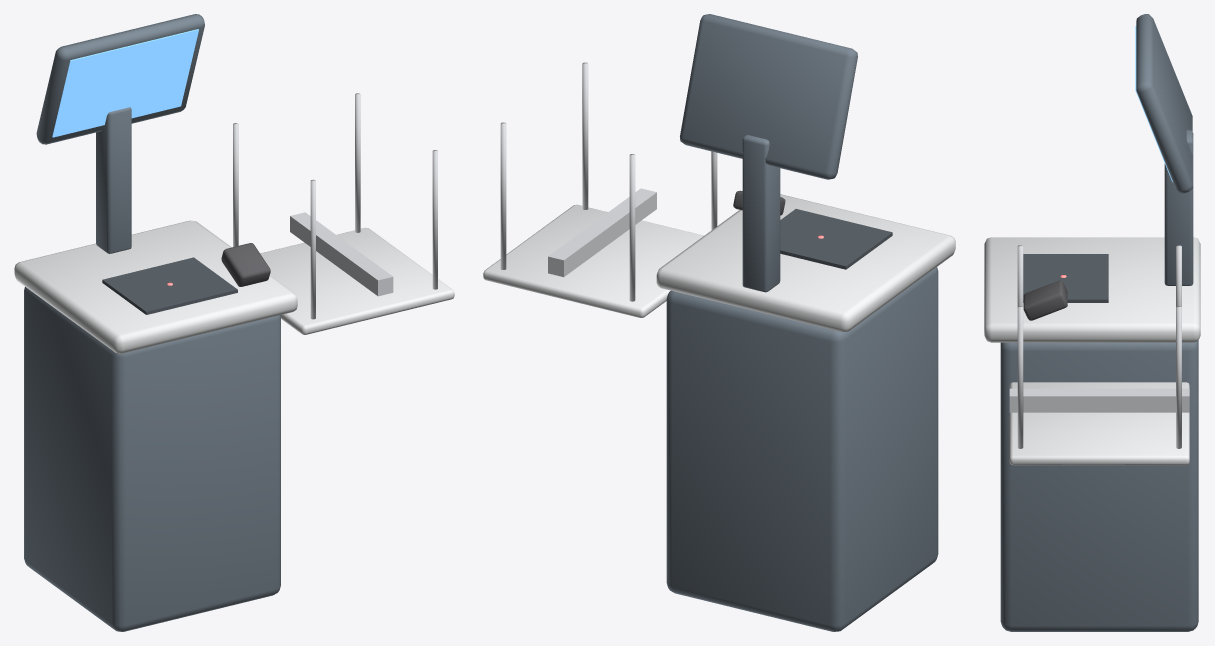
File: kiosk.glb
3 renders of one model, left to right at view 1: azimuth 30°, elevation 25°; view 2: azimuth 150°, elevation 25°; view 3: azimuth 270°, elevation 25°, orthographic. The views are drawn at different scales.
Visible parts, largest first — view 1: Cube, Cube.001, Cube.008, Cube.005, Cube.003, Cube.004, Cube.002, Cube.007, Cube.006, Cylinder.001, Cylinder.003, Cylinder.004 (+1 smaller); view 2: Cube, Cube.004, Cube.001, Cube.008, Cube.003, Cube.002, Cube.007, Cylinder.002, Cylinder.003, Cylinder.004; view 3: Cube, Cube.001, Cube.008, Cube.004, Cube.007, Cube.002, Cube.003, Cube.006, Cylinder.003, Cylinder.004, Cylinder.001, Cylinder.002.
Part boxes in pixels (box(x1,y1,x2,y2)): Cube: box(24, 287, 280, 631); Cube.001: box(14, 220, 297, 353); Cube.008: box(260, 227, 454, 334); Cube.005: box(52, 29, 198, 137); Cube.003: box(96, 107, 131, 253); Cube.004: box(36, 14, 204, 144); Cube.002: box(102, 257, 237, 314); Cube.007: box(290, 212, 393, 296); Cube.006: box(221, 243, 270, 286); Cylinder.001: box(310, 179, 315, 319); Cylinder.003: box(432, 150, 437, 289); Cylinder.004: box(355, 93, 360, 232); Cube: box(666, 267, 938, 631); Cube.004: box(680, 14, 857, 179); Cube.001: box(656, 194, 955, 332); Cube.008: box(483, 204, 703, 317); Cube.003: box(742, 135, 780, 292); Cube.002: box(780, 209, 892, 269); Cube.007: box(548, 188, 656, 277); Cylinder.002: box(629, 154, 635, 301); Cylinder.003: box(582, 62, 588, 209); Cylinder.004: box(500, 122, 506, 269); Cube: box(1000, 340, 1198, 631); Cube.001: box(984, 237, 1200, 342); Cube.008: box(1009, 382, 1189, 465); Cube.004: box(1136, 14, 1192, 193); Cube.007: box(1009, 388, 1189, 412); Cube.002: box(1023, 254, 1108, 302); Cube.003: box(1164, 130, 1193, 285); Cube.006: box(1023, 280, 1067, 320); Cylinder.003: box(1017, 306, 1023, 448); Cylinder.004: box(1176, 306, 1181, 448); Cylinder.001: box(1017, 245, 1023, 306); Cylinder.002: box(1176, 245, 1181, 306).
Size of the model in its own units: 1.15 by 1.67 by 0.6.
